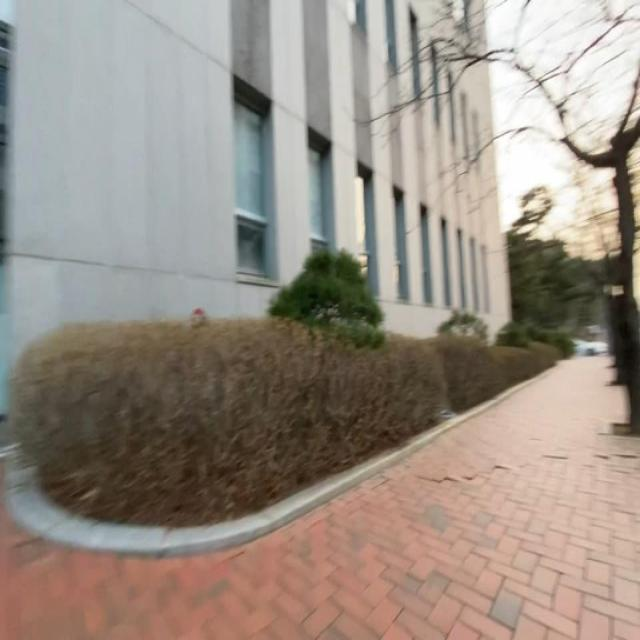sidewalk: (0, 357, 640, 640)
